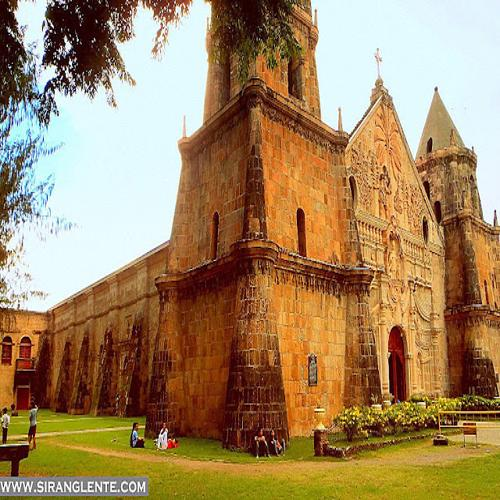Miagao Church: (191, 4, 500, 434)
